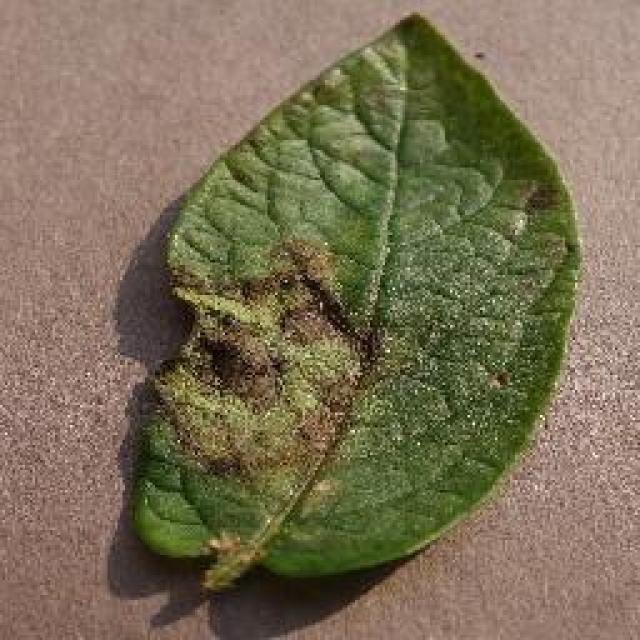late_blight: (123, 10, 585, 595)
